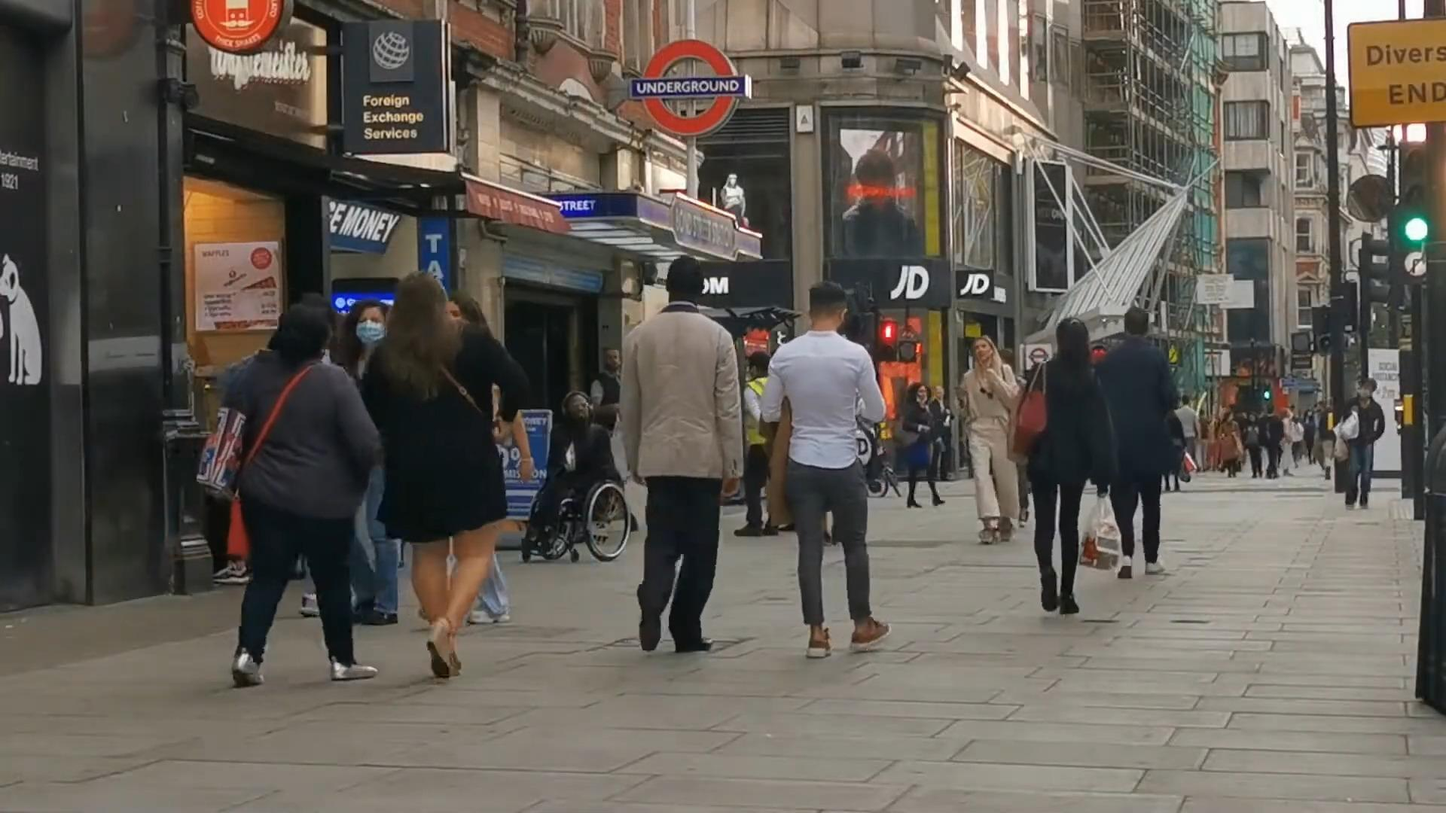no-helmet: (387, 272, 447, 339), (272, 304, 333, 361), (338, 298, 388, 345), (665, 255, 705, 305), (808, 281, 847, 331), (1056, 317, 1089, 357), (448, 292, 486, 323), (1124, 307, 1149, 338), (972, 335, 1001, 361)
